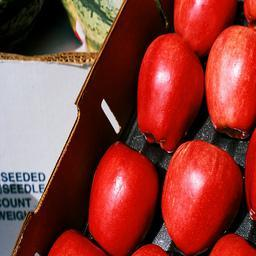apple: (160, 140, 241, 252), (136, 30, 205, 157), (88, 141, 159, 253), (204, 24, 256, 142), (174, 1, 240, 54)
